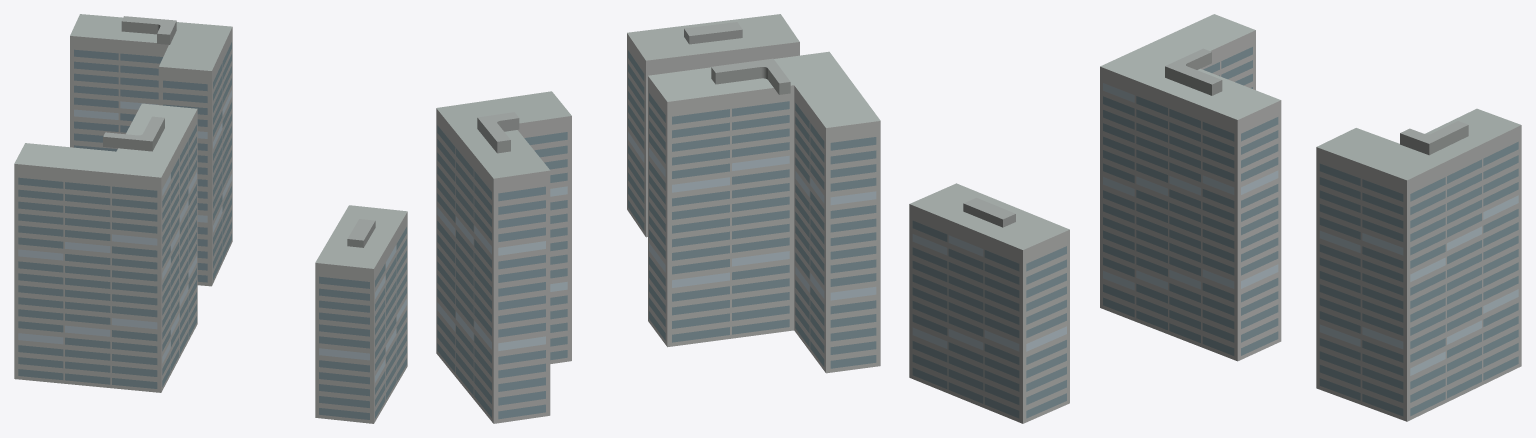
The model's file is apt-a12071102.glb.
3 renders of one model, left to right at view 1: azimuth 30°, elevation 25°; view 2: azimuth 150°, elevation 25°; view 3: azimuth 270°, elevation 25°, orthographic. The views are drawn at different scales.
Visible parts, largest first — view 1: apt-a12071102; view 2: apt-a12071102; view 3: apt-a12071102.
Boxes of the visible parts, x1,y1,x2,y2 form: apt-a12071102: [14, 14, 407, 423]; apt-a12071102: [436, 14, 880, 423]; apt-a12071102: [909, 14, 1521, 423].
Size of the model in its own units: 71.54 by 50 by 110.
